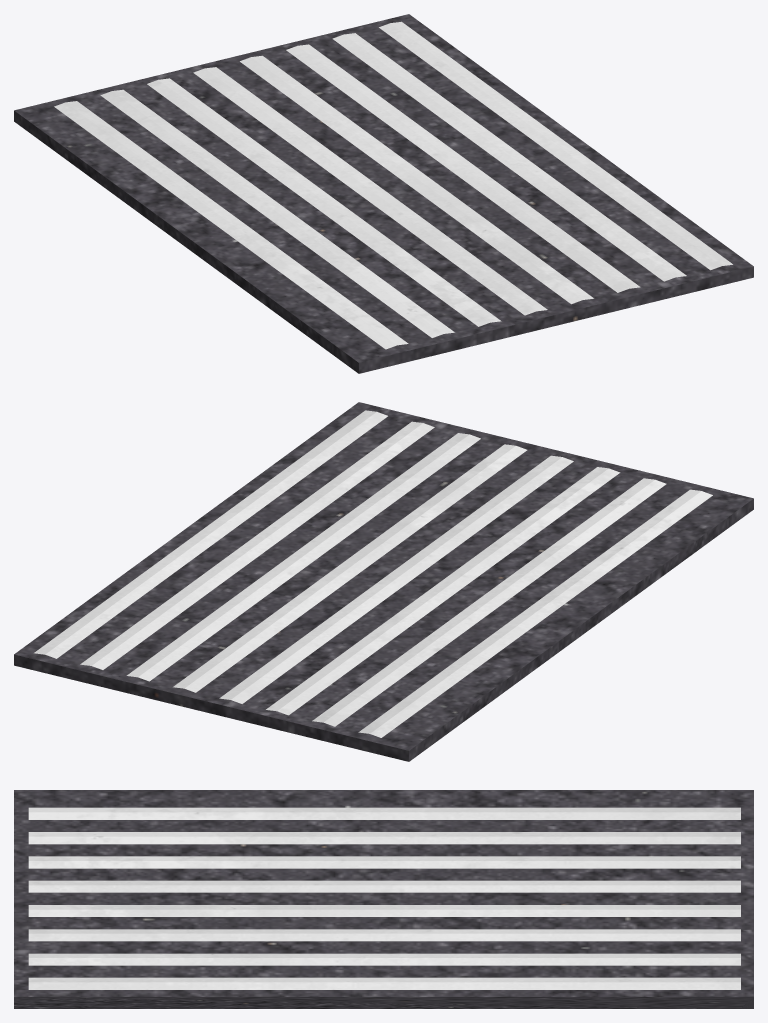
File: rumble_strip.fbx
3 views of the same model, one above another, from view 1: azimuth 30°, elevation 25°; view 2: azimuth 150°, elevation 25°; view 3: azimuth 270°, elevation 25° (orthographic). The views are drawn at different scales.
Visible parts, largest first — view 1: rumble_strip; view 2: rumble_strip; view 3: rumble_strip.
Boxes of the visible parts, x1=… form: rumble_strip: x1=14, y1=14, x2=753, y2=373; rumble_strip: x1=14, y1=402, x2=753, y2=761; rumble_strip: x1=14, y1=790, x2=753, y2=1008.
Bounding box in the file's own units: 1279 × 38.63 × 1934.
